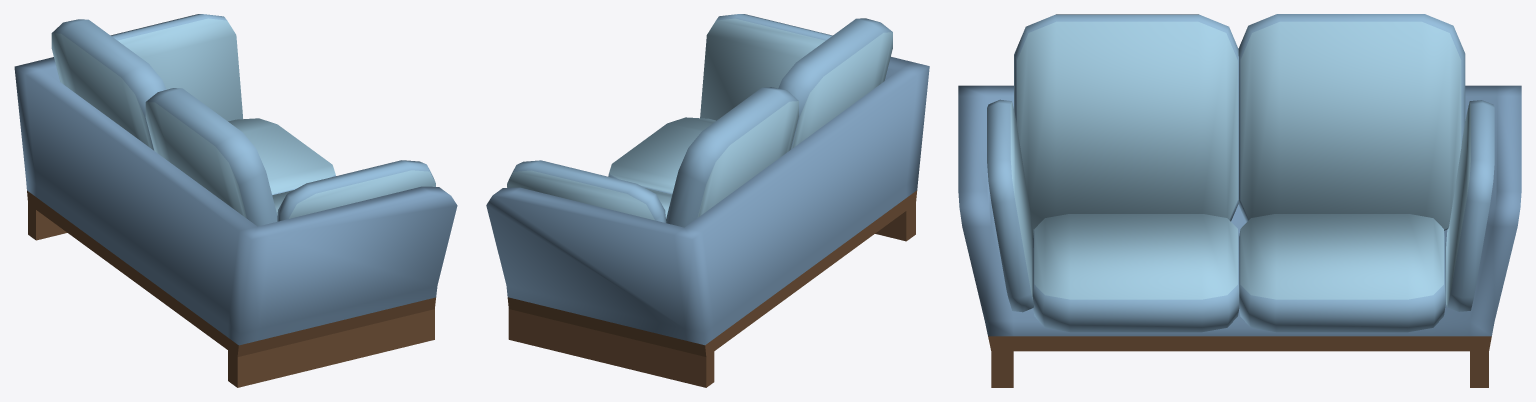
The model's file is Couch_01.glb.
The picture shows the model from 3 angles, left to right: view 1: azimuth 30°, elevation 25°; view 2: azimuth 150°, elevation 25°; view 3: azimuth 270°, elevation 25°; orthographic projection. The views are drawn at different scales.
Visible parts, largest first — view 1: Couch_01; view 2: Couch_01; view 3: Couch_01.
Part boxes in pixels (left/top/right/bottom): Couch_01: left=14, top=14, right=457, bottom=387; Couch_01: left=486, top=14, right=929, bottom=387; Couch_01: left=958, top=14, right=1521, bottom=387.
Size of what is drawn, in the model's own units: 1.48 by 1.48 by 2.8.
Materials: 1 (1 with a texture image).
